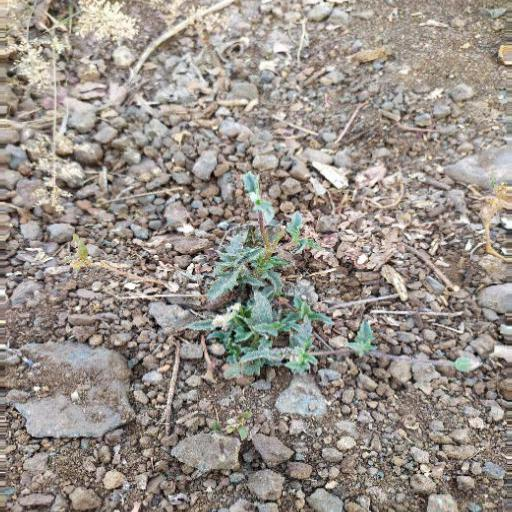weed: (176, 184, 391, 392)
